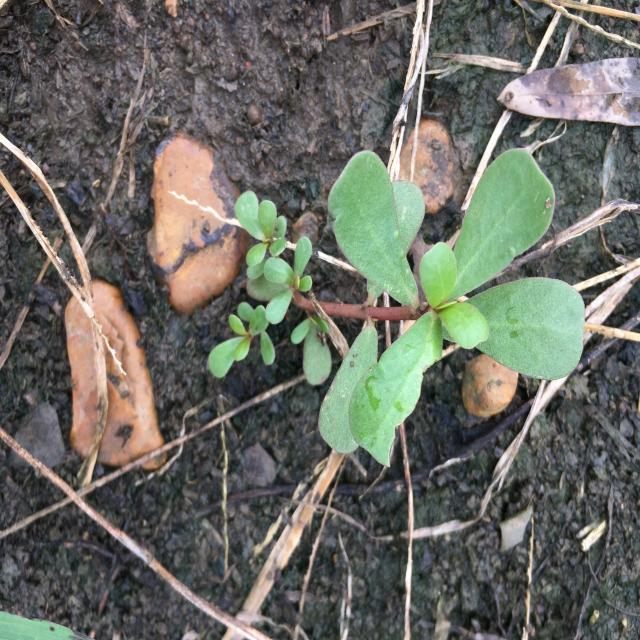Purslane: (209, 148, 585, 468)
